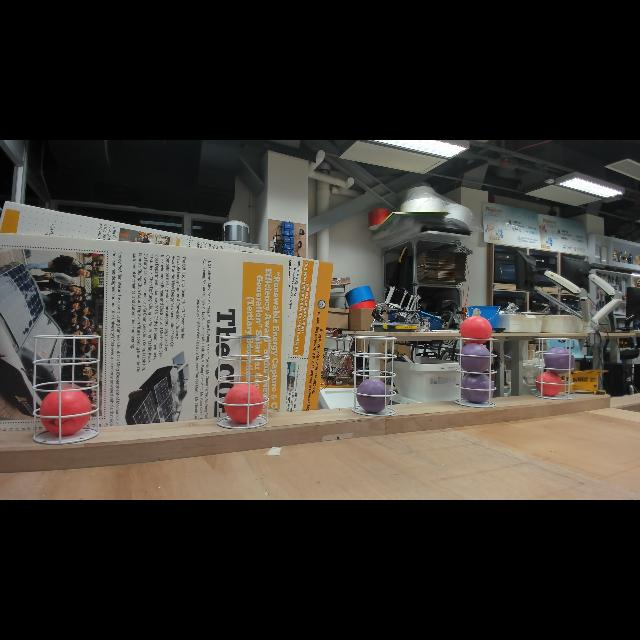P: (356, 378, 392, 414), (458, 343, 492, 375), (460, 372, 494, 403), (544, 347, 576, 375)
R: (39, 387, 93, 437), (224, 384, 264, 424), (460, 316, 492, 344), (536, 372, 564, 396)
S: (32, 333, 102, 445), (216, 336, 270, 430), (350, 335, 398, 417), (454, 337, 498, 409), (535, 338, 575, 400)
